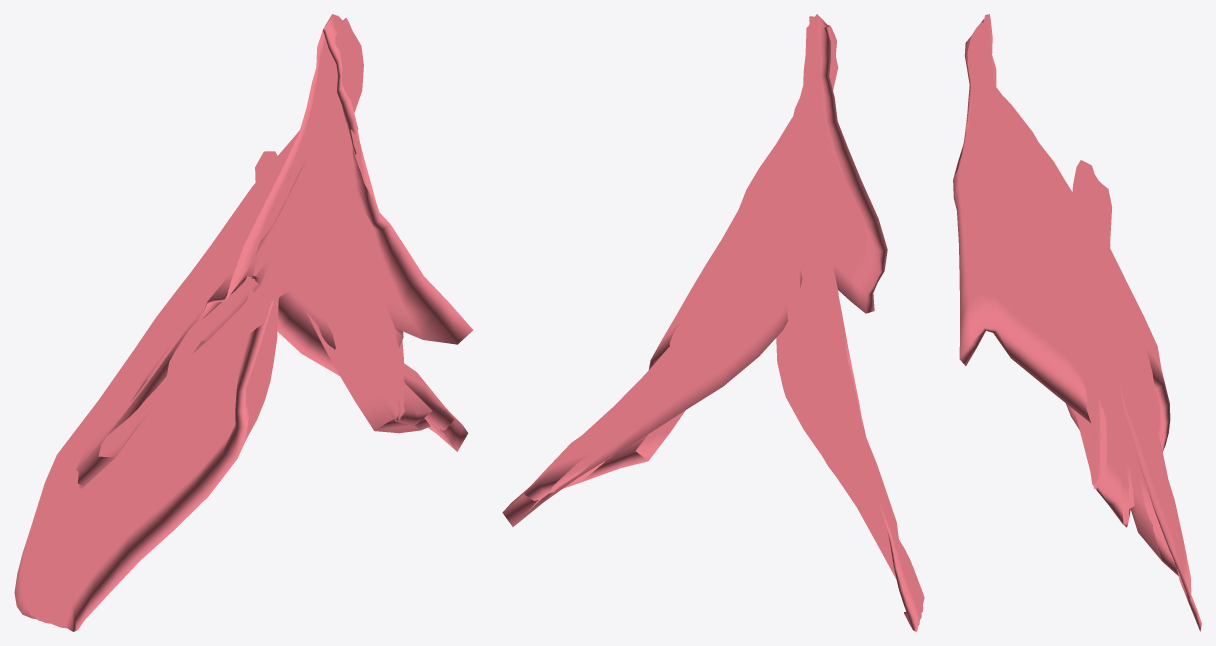
Rendered from cobija.glb.
3 renders of one model, left to right at view 1: azimuth 30°, elevation 25°; view 2: azimuth 150°, elevation 25°; view 3: azimuth 270°, elevation 25°, orthographic. The views are drawn at different scales.
Parts seen in each view (by area): view 1: Cobija; view 2: Cobija; view 3: Cobija.
Part boxes in pixels (x1=…): Cobija: x1=14, y1=14, x2=473, y2=631; Cobija: x1=502, y1=14, x2=924, y2=631; Cobija: x1=953, y1=14, x2=1201, y2=631.
Bounding box in the file's own units: 2.9 × 3.62 × 1.5.
